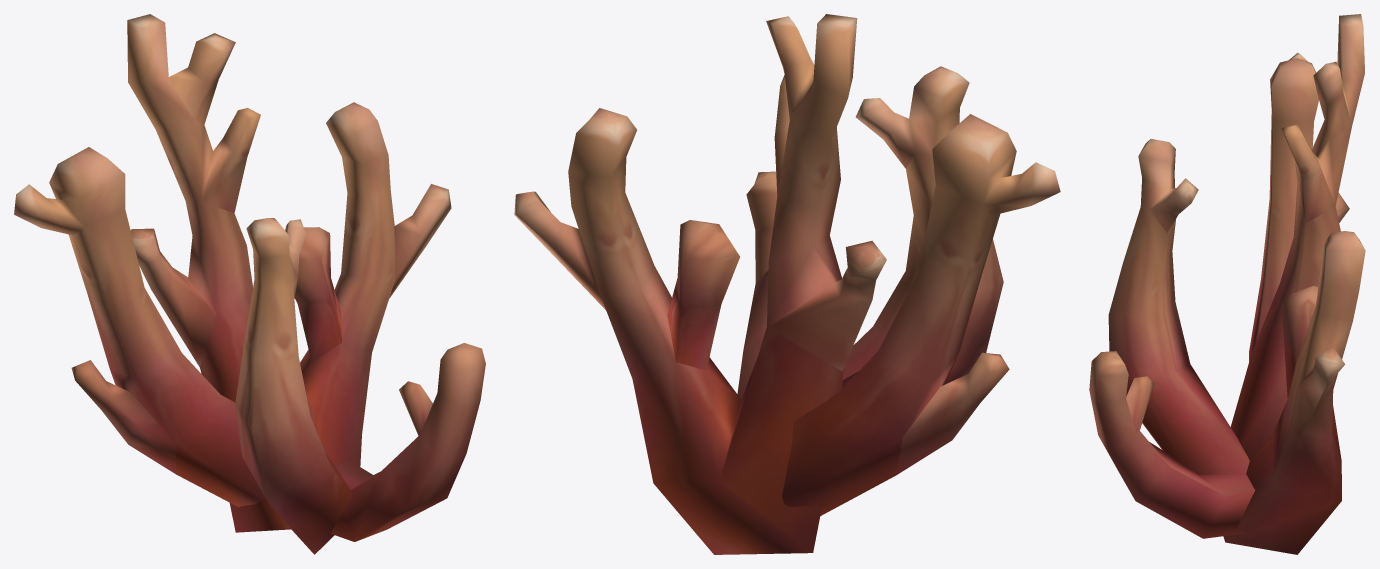
Rendered from Map_09_coral01.FBX.
The picture shows the model from 3 angles, left to right: view 1: azimuth 30°, elevation 25°; view 2: azimuth 150°, elevation 25°; view 3: azimuth 270°, elevation 25°; orthographic projection. The views are drawn at different scales.
Parts seen in each view (by area): view 1: Map_09_coral01; view 2: Map_09_coral01; view 3: Map_09_coral01.
Boxes of the visible parts, <box> form: Map_09_coral01: <box>14,14,485,554</box>; Map_09_coral01: <box>514,14,1060,554</box>; Map_09_coral01: <box>1089,14,1365,554</box>.
Size of the model in its own units: 221 by 240 by 127.
